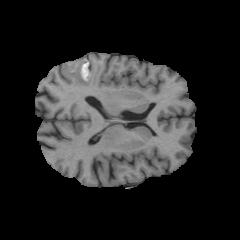glioma: (58, 55, 94, 86)
